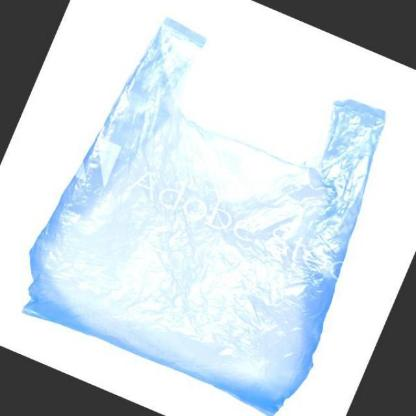Plastic Bag: (22, 15, 386, 413)
